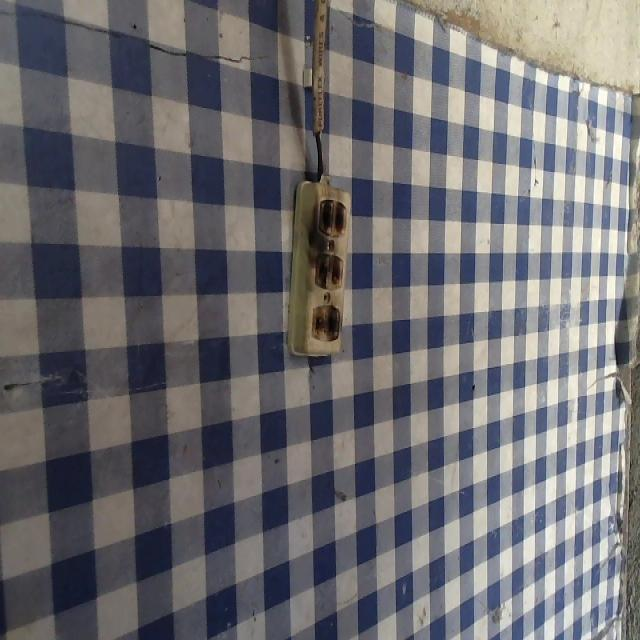-: (306, 291, 350, 348), (310, 185, 350, 243), (309, 246, 347, 294)
